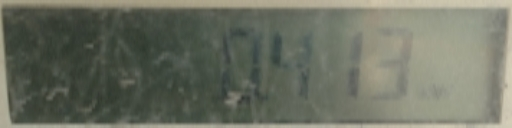0: (217, 17, 260, 110)
1: (346, 25, 367, 106)
3: (373, 23, 414, 103)
4: (267, 24, 317, 110)
d: (258, 88, 268, 108)
